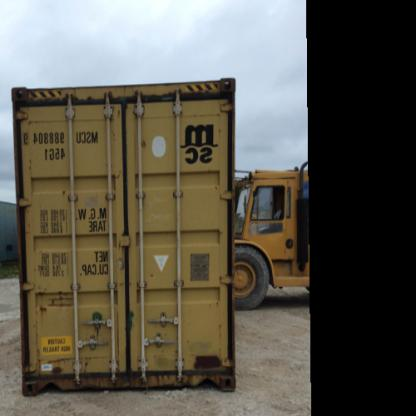Damage: (152, 87, 233, 114), (36, 348, 100, 379), (38, 281, 78, 323), (188, 351, 235, 385), (133, 128, 152, 154)
